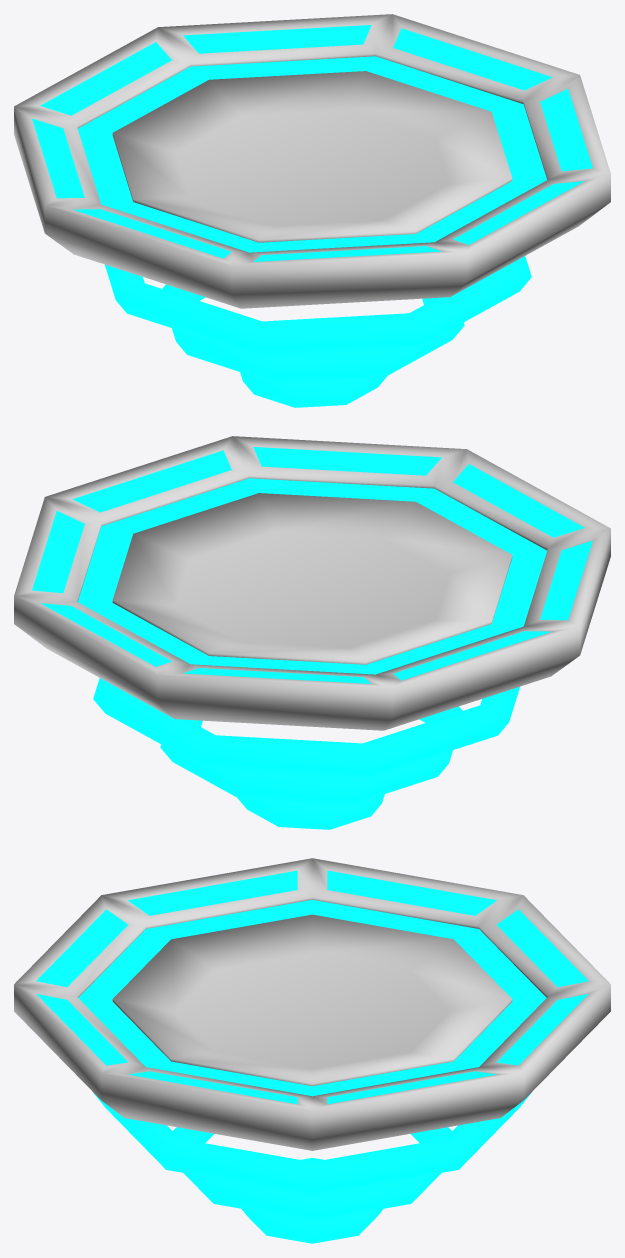
File: shelf.fbx
3 views of the same model, one above another, from view 1: azimuth 30°, elevation 25°; view 2: azimuth 150°, elevation 25°; view 3: azimuth 270°, elevation 25° (orthographic). The views are drawn at different scales.
Visible parts, largest first — view 1: Cylinder, Neon; view 2: Cylinder, Neon; view 3: Cylinder, Neon.
Part boxes in pixels (box(x1,y1,x2,y2)): Cylinder: box(14, 14, 610, 308); Neon: box(32, 25, 592, 407); Cylinder: box(14, 436, 610, 730); Neon: box(32, 447, 592, 829); Cylinder: box(14, 858, 610, 1150); Neon: box(36, 870, 588, 1243).
Bounding box in the file's own units: 400 × 171 × 400.
